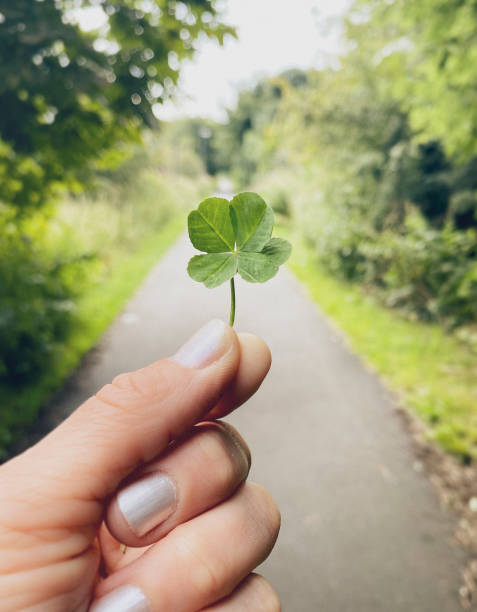daikon: (165, 172, 309, 298)
